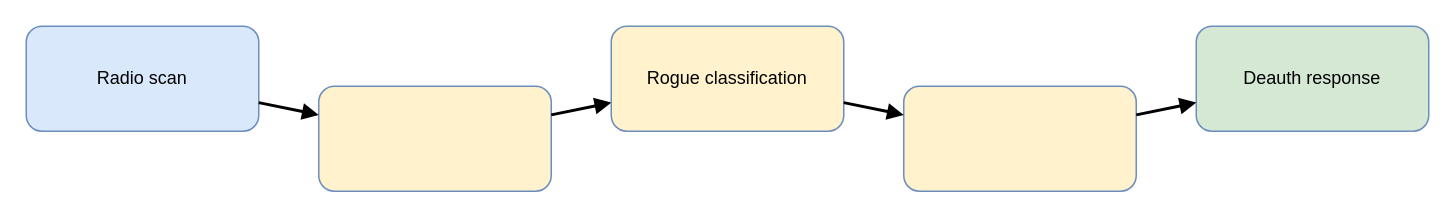
Some shapes in this 1455 by 218 pixel diagram are drawn without their labels. Here are the shapes that lost their labels. From the top down, the centre of each, then its label:
point (434, 138): MAC correlation
point (1019, 138): Monitor radio
